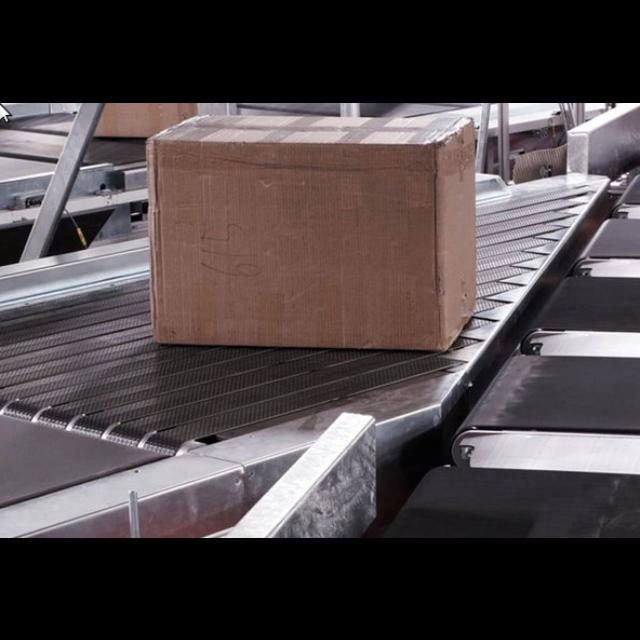box: (148, 115, 478, 352)
